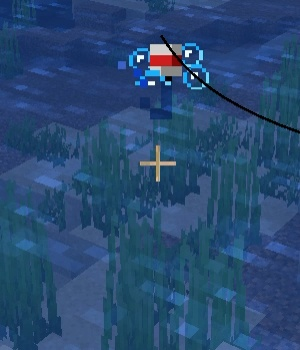up: (140, 37, 189, 123)
